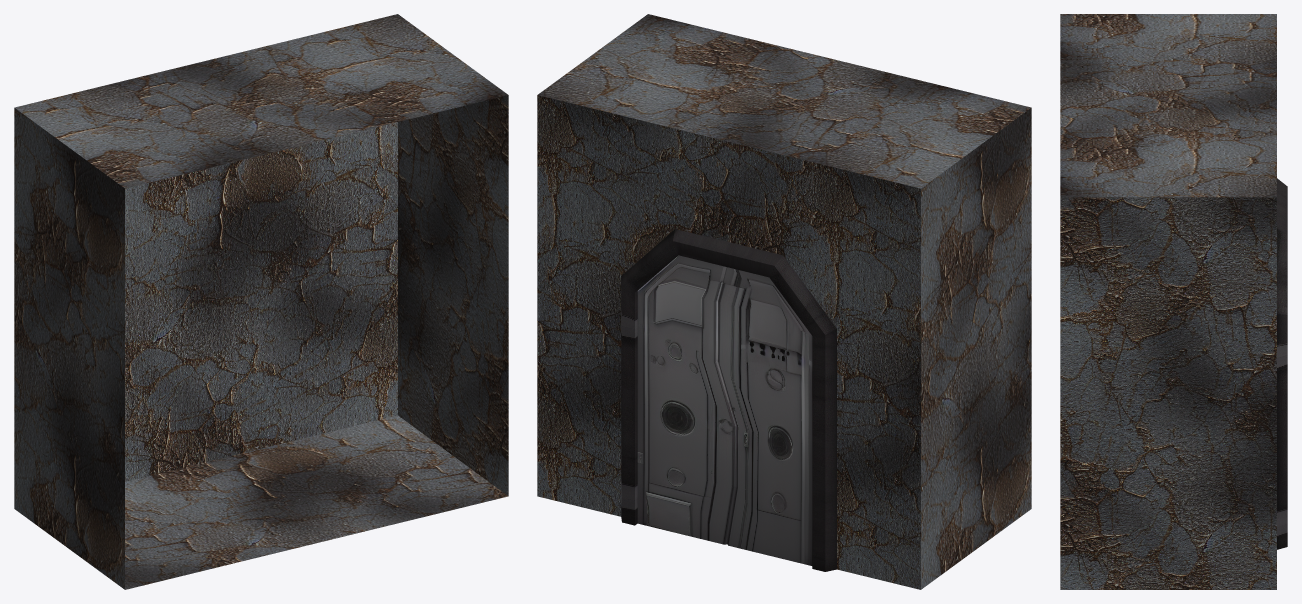
Rendered from outer_door.glb.
3 views of the same model, side by side, from view 1: azimuth 30°, elevation 25°; view 2: azimuth 150°, elevation 25°; view 3: azimuth 270°, elevation 25° (orthographic). The views are drawn at different scales.
Visible parts, largest first — view 1: OuterDoor; view 2: OuterDoor; view 3: OuterDoor.
Part boxes in pixels (<box>): OuterDoor: <box>14,14,508,589</box>; OuterDoor: <box>537,14,1031,589</box>; OuterDoor: <box>1060,14,1287,589</box>.
Bounding box in the file's own units: 4 × 4 × 2.1.
2 materials, 2 textured.
